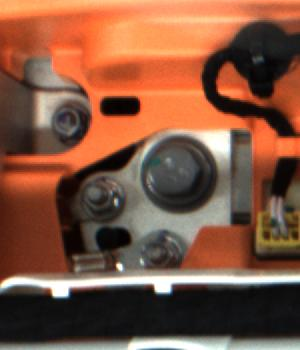nut_b: (139, 135, 229, 215)
